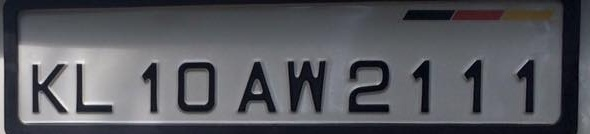character: (347, 57, 390, 115), (175, 58, 218, 114), (284, 57, 327, 112), (236, 57, 276, 115), (73, 60, 114, 113), (29, 61, 69, 115), (513, 55, 537, 116), (461, 56, 485, 115), (411, 55, 432, 114), (140, 61, 159, 115)
